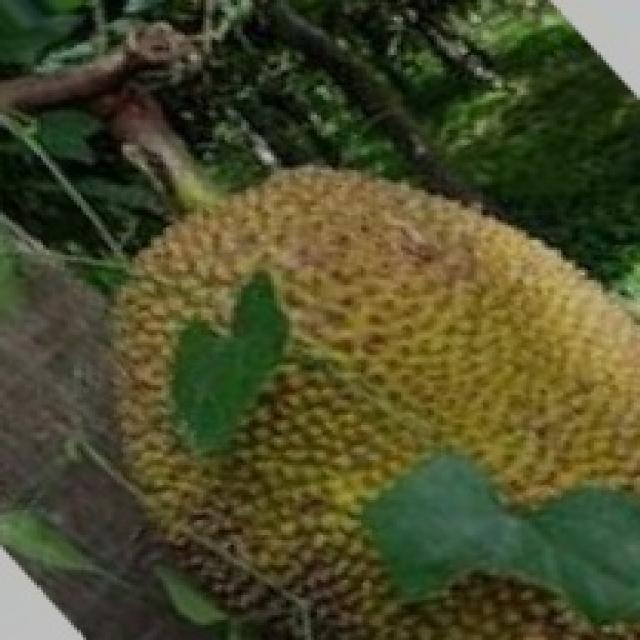Fruit: (215, 118, 640, 542)
